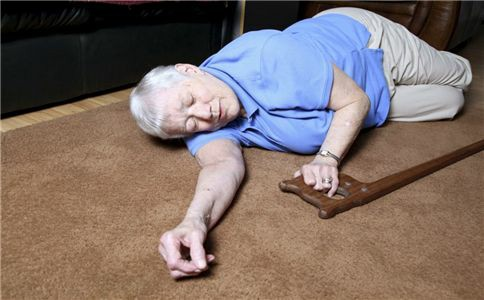down: (124, 4, 476, 287)
